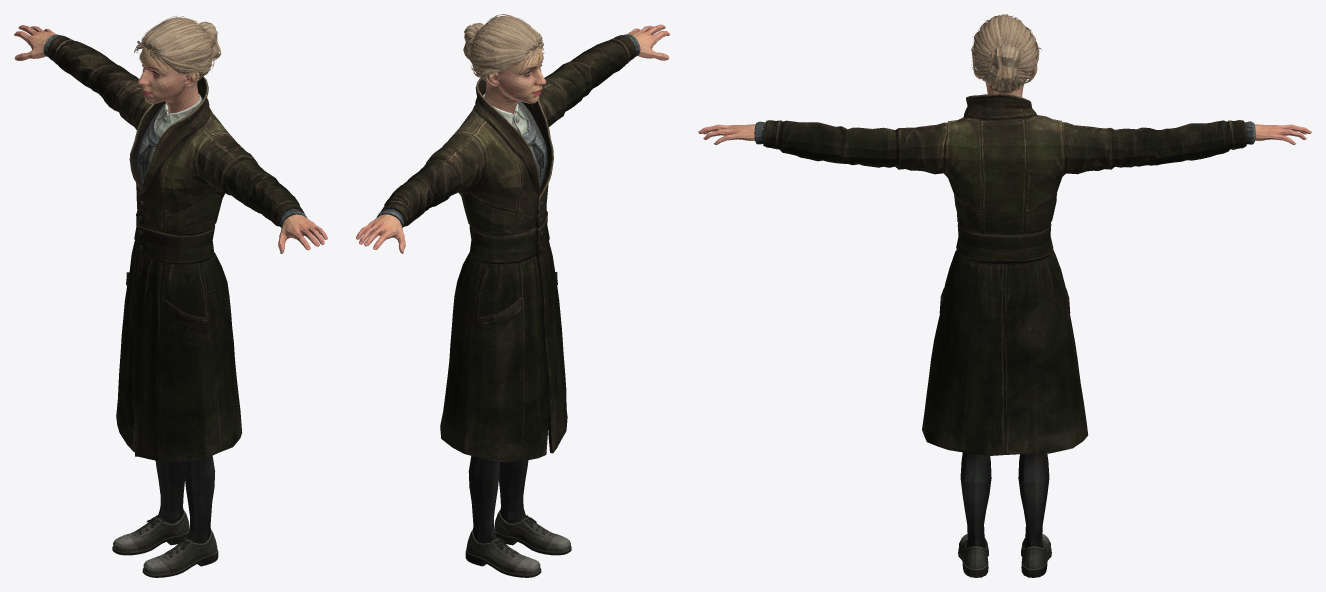
File: ZDEH1EX2WZSCDUNMMBOAU7FOD.obj
The picture shows the model from 3 angles, left to right: view 1: azimuth 30°, elevation 25°; view 2: azimuth 150°, elevation 25°; view 3: azimuth 270°, elevation 25°; orthographic projection. The views are drawn at different scales.
Visible parts, largest first — view 1: Object_Julia_Cloth_DIFF.png, Object_Julia_Skin_DIFF.png, Object_Julia_Hair_DIFF.png; view 2: Object_Julia_Cloth_DIFF.png, Object_Julia_Skin_DIFF.png, Object_Julia_Hair_DIFF.png; view 3: Object_Julia_Cloth_DIFF.png, Object_Julia_Hair_DIFF.png, Object_Julia_Skin_DIFF.png.
Boxes of the visible parts, left/top/right/bottom form: Object_Julia_Cloth_DIFF.png: left=43, top=34, right=306, bottom=577; Object_Julia_Skin_DIFF.png: left=14, top=25, right=327, bottom=253; Object_Julia_Hair_DIFF.png: left=134, top=16, right=221, bottom=80; Object_Julia_Cloth_DIFF.png: left=376, top=34, right=640, bottom=577; Object_Julia_Skin_DIFF.png: left=356, top=24, right=669, bottom=253; Object_Julia_Hair_DIFF.png: left=463, top=14, right=544, bottom=80; Object_Julia_Cloth_DIFF.png: left=754, top=93, right=1255, bottom=577; Object_Julia_Hair_DIFF.png: left=971, top=14, right=1042, bottom=91; Object_Julia_Skin_DIFF.png: left=698, top=67, right=1311, bottom=144.
Size of the model in its own units: 0.4777 by 2.47 by 2.5.
Materials: 5 (5 with a texture image).
